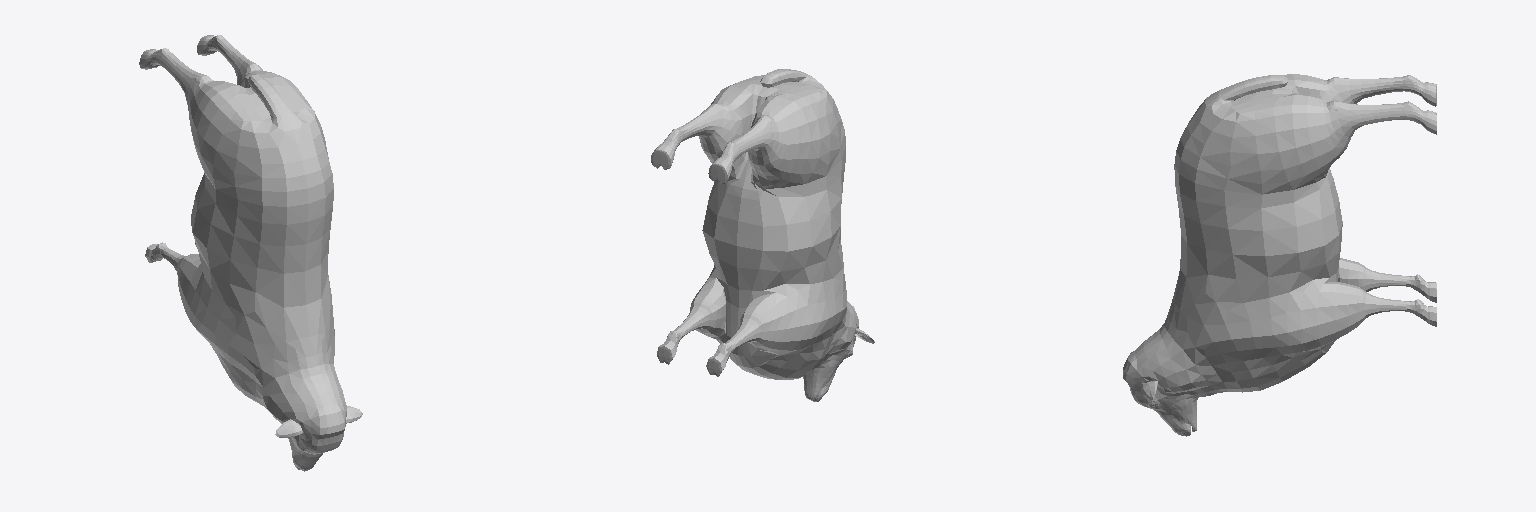
Rendered from sheep.obj.
3 renders of one model, left to right at view 1: azimuth 30°, elevation 25°; view 2: azimuth 150°, elevation 25°; view 3: azimuth 270°, elevation 25°, orthographic.
Parts seen in each view (by area): view 1: Object.1; view 2: Object.1; view 3: Object.1.
Part boxes in pixels (bbox=[...]): Object.1: bbox=[139, 35, 362, 471]; Object.1: bbox=[651, 69, 874, 401]; Object.1: bbox=[1123, 74, 1436, 436].
Size of the model in its own units: 0.7672 by 2.31 by 1.83.